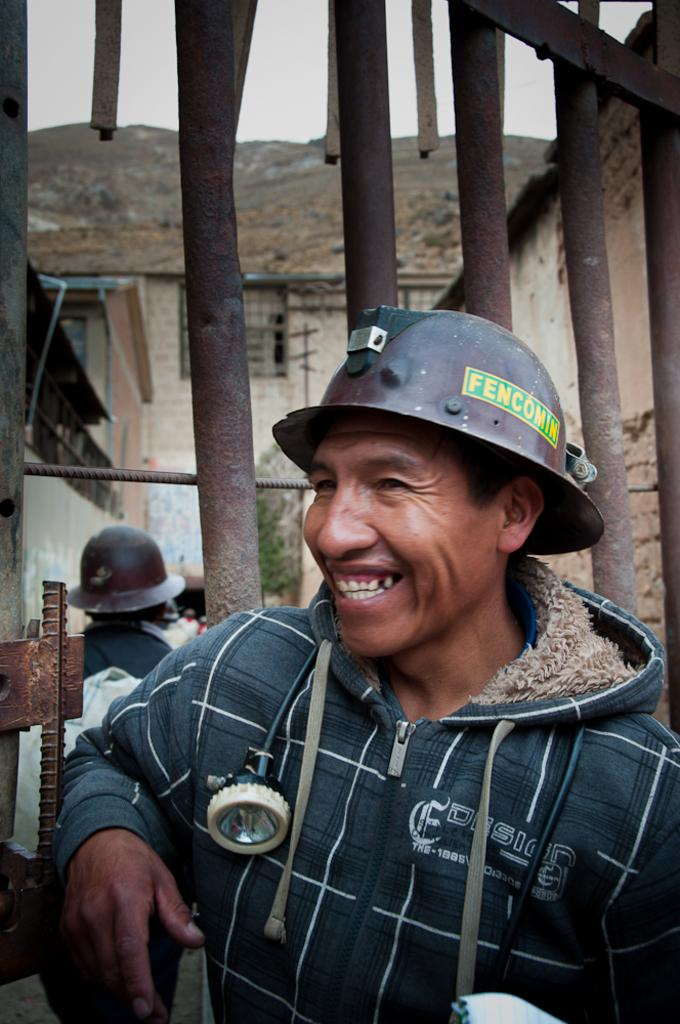Sem Máscara: (299, 409, 500, 653)
